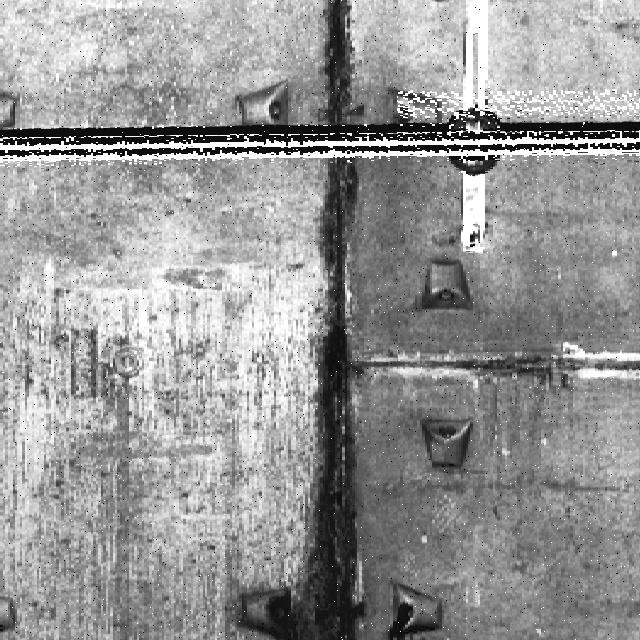leakage: (296, 0, 374, 639)
